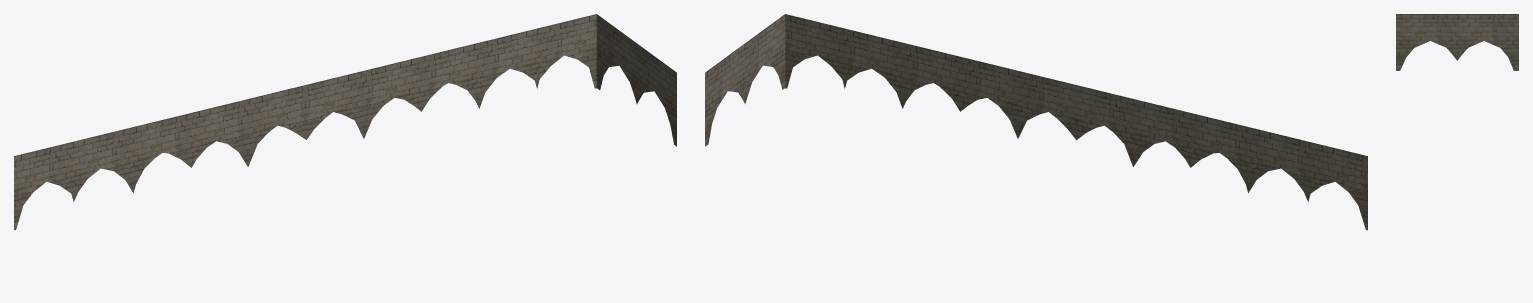
Rendered from Sponza58.gltf.
The picture shows the model from 3 angles, left to right: view 1: azimuth 30°, elevation 25°; view 2: azimuth 150°, elevation 25°; view 3: azimuth 270°, elevation 25°; orthographic projection. The views are drawn at different scales.
Size of the model in its own units: 14.97 by 1.82 by 3.56.
Materials: 1 (1 with a texture image).
